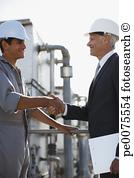helmet: (84, 19, 122, 41), (1, 22, 30, 43)
